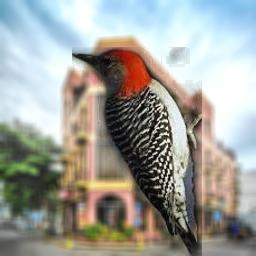Woodpecker: (72, 47, 202, 256)
